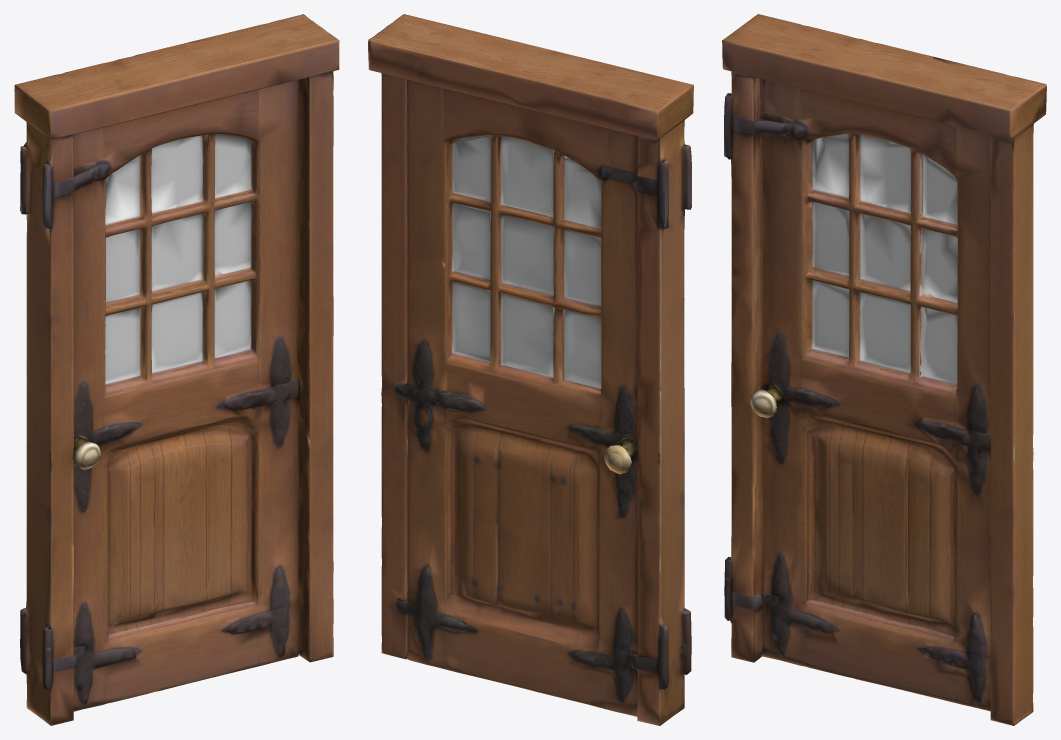
File: Wood_door_with_countr_0719130417_texture.fbx
The picture shows the model from 3 angles, left to right: view 1: azimuth 30°, elevation 25°; view 2: azimuth 150°, elevation 25°; view 3: azimuth 330°, elevation 25°; orthographic projection.
Visible parts, largest first — view 1: Mesh_0; view 2: Mesh_0; view 3: Mesh_0.
Boxes of the visible parts, bbox=[...] form: Mesh_0: bbox=[14, 14, 339, 725]; Mesh_0: bbox=[368, 14, 693, 725]; Mesh_0: bbox=[722, 14, 1046, 725].
Size of the model in its own units: 98.59 by 200 by 24.1.
Materials: 1 (1 with a texture image).
